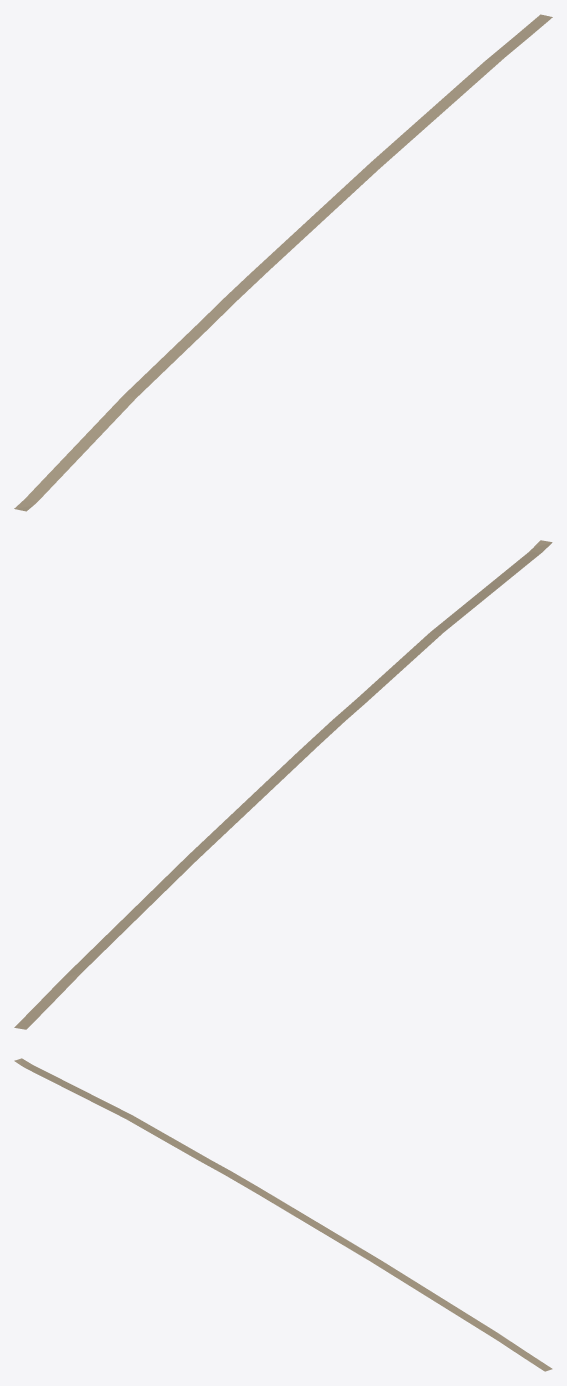
File: farm_2_15_track.glb
The picture shows the model from 3 angles, top to bottom: view 1: azimuth 30°, elevation 25°; view 2: azimuth 210°, elevation 25°; view 3: azimuth 270°, elevation 25°; orthographic projection. The views are drawn at different scales.
Parts seen in each view (by area): view 1: geometry_0; view 2: geometry_0; view 3: geometry_0.
Part boxes in pixels (left/top/right/bottom): geometry_0: left=14, top=14, right=552, bottom=511; geometry_0: left=14, top=540, right=552, bottom=1029; geometry_0: left=14, top=1058, right=552, bottom=1371.
Bounding box in the file's own units: 252 × 4.3 × 181.
